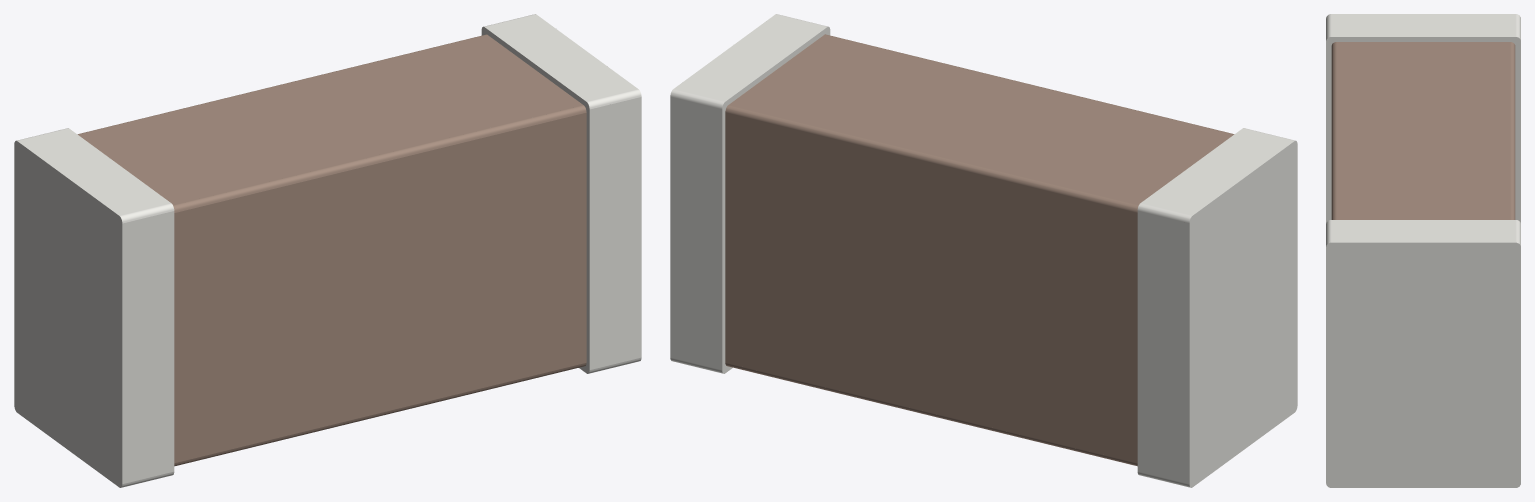
Rendered from C_2010_5025Metric.glb.
3 views of the same model, side by side, from view 1: azimuth 30°, elevation 25°; view 2: azimuth 150°, elevation 25°; view 3: azimuth 270°, elevation 25° (orthographic). The views are drawn at different scales.
Visible parts, largest first — view 1: Shape_IndexedFaceSet.015, Shape_IndexedFaceSet.013, Shape_IndexedFaceSet, Shape_IndexedFaceSet.005, Shape_IndexedFaceSet.023, Shape_IndexedFaceSet.008, Shape_IndexedFaceSet.026, Shape_IndexedFaceSet.014, Shape_IndexedFaceSet.018, Shape_IndexedFaceSet.016; view 2: Shape_IndexedFaceSet.011, Shape_IndexedFaceSet.013, Shape_IndexedFaceSet, Shape_IndexedFaceSet.022, Shape_IndexedFaceSet.004, Shape_IndexedFaceSet.026, Shape_IndexedFaceSet.008, Shape_IndexedFaceSet.012, Shape_IndexedFaceSet.018, Shape_IndexedFaceSet.010; view 3: Shape_IndexedFaceSet.027, Shape_IndexedFaceSet.013, Shape_IndexedFaceSet.008, Shape_IndexedFaceSet.026, Shape_IndexedFaceSet.009, Shape_IndexedFaceSet.012, Shape_IndexedFaceSet.014.
Part boxes in pixels (bbox=[...]): Shape_IndexedFaceSet.015: bbox=[174, 112, 586, 463]; Shape_IndexedFaceSet.013: bbox=[78, 35, 582, 205]; Shape_IndexedFaceSet: bbox=[14, 140, 122, 487]; Shape_IndexedFaceSet.005: bbox=[122, 211, 174, 483]; Shape_IndexedFaceSet.023: bbox=[589, 97, 641, 369]; Shape_IndexedFaceSet.008: bbox=[17, 128, 170, 215]; Shape_IndexedFaceSet.026: bbox=[485, 14, 638, 101]; Shape_IndexedFaceSet.014: bbox=[173, 105, 586, 212]; Shape_IndexedFaceSet.018: bbox=[481, 26, 589, 373]; Shape_IndexedFaceSet.016: bbox=[174, 363, 586, 466]; Shape_IndexedFaceSet.011: bbox=[725, 112, 1137, 462]; Shape_IndexedFaceSet.013: bbox=[728, 35, 1233, 205]; Shape_IndexedFaceSet: bbox=[1189, 140, 1297, 487]; Shape_IndexedFaceSet.022: bbox=[670, 97, 722, 369]; Shape_IndexedFaceSet.004: bbox=[1137, 211, 1189, 483]; Shape_IndexedFaceSet.026: bbox=[674, 14, 826, 101]; Shape_IndexedFaceSet.008: bbox=[1141, 128, 1294, 215]; Shape_IndexedFaceSet.012: bbox=[725, 105, 1138, 212]; Shape_IndexedFaceSet.018: bbox=[722, 26, 830, 373]; Shape_IndexedFaceSet.010: bbox=[725, 362, 1137, 466]; Shape_IndexedFaceSet.027: bbox=[1326, 242, 1520, 487]; Shape_IndexedFaceSet.013: bbox=[1337, 42, 1510, 219]; Shape_IndexedFaceSet.008: bbox=[1331, 14, 1515, 36]; Shape_IndexedFaceSet.026: bbox=[1331, 220, 1515, 242]; Shape_IndexedFaceSet.009: bbox=[1326, 37, 1520, 223]; Shape_IndexedFaceSet.012: bbox=[1510, 42, 1515, 219]; Shape_IndexedFaceSet.014: bbox=[1331, 42, 1336, 219].
Bounding box in the file's own units: 1.97 × 0.984 × 0.709.
